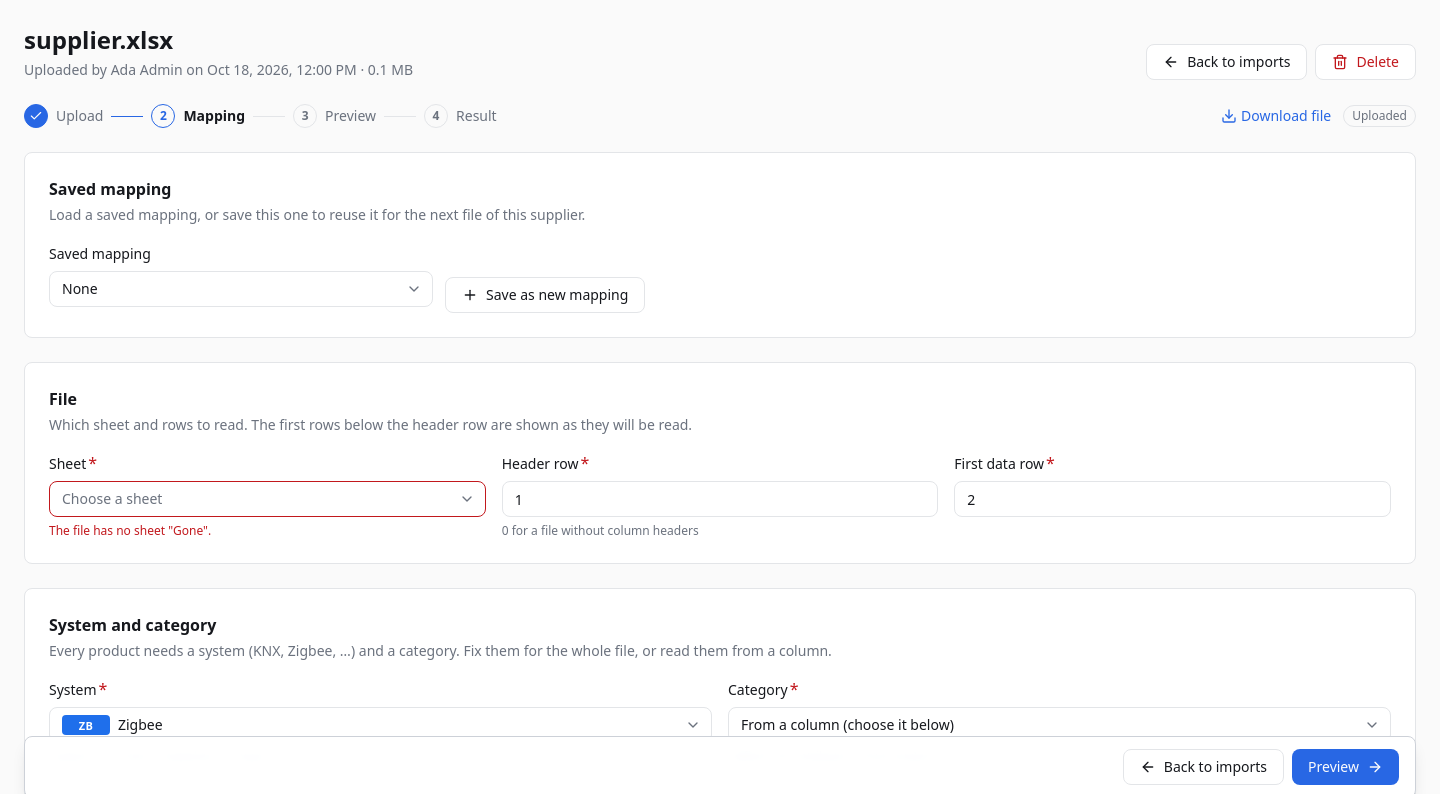
MappingStep: sheets › shows a sheet the file lacks at the sheet and places the mapping on the sheet chosen instead
Expected: the text "The file has no sheet \"Gone\"." is shown, [49,522,211,539]
Click the dropdown labelled "sheet".
click(112, 498)  # box [49,481,486,517]
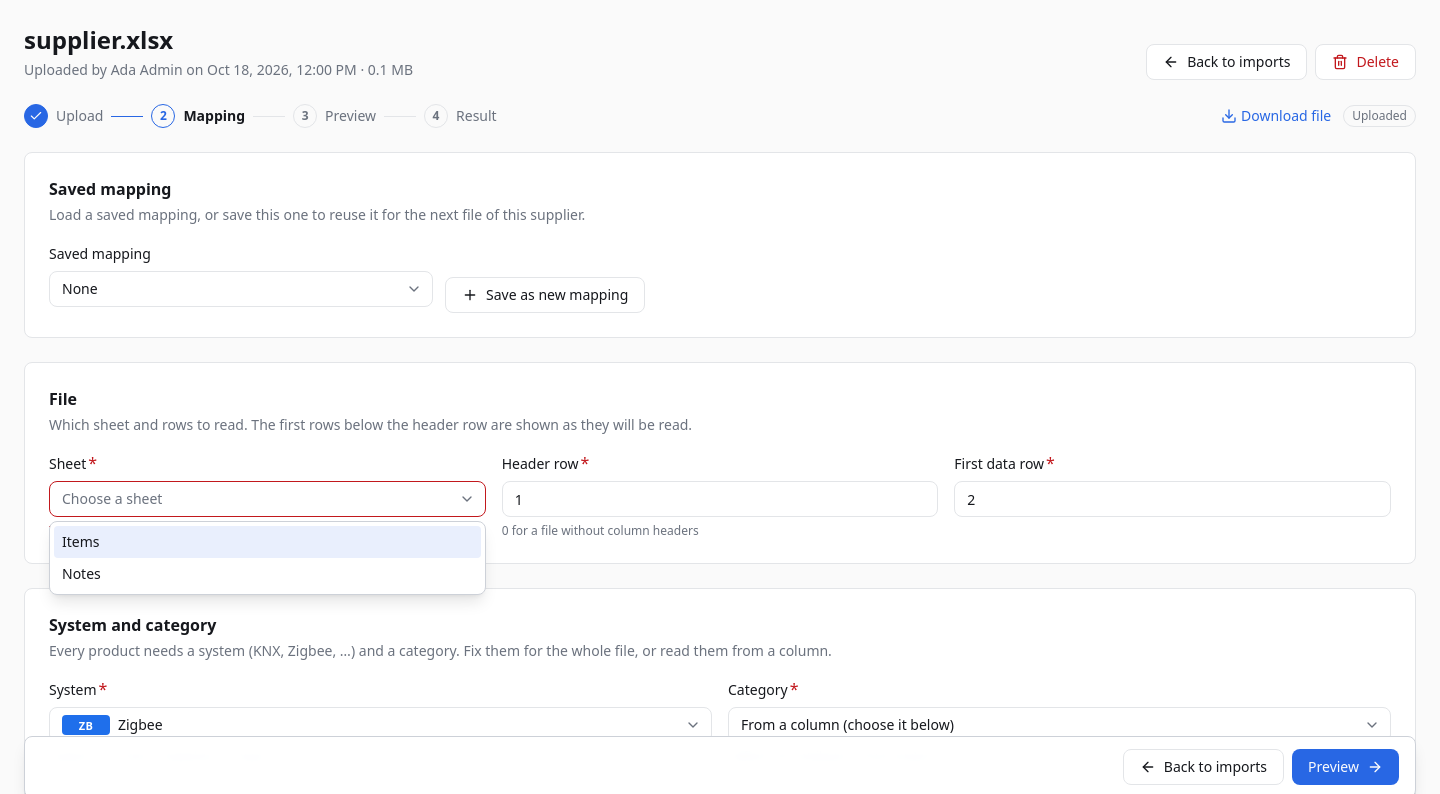
Click the option "Notes".
click(81, 574)  # box [62,564,101,583]
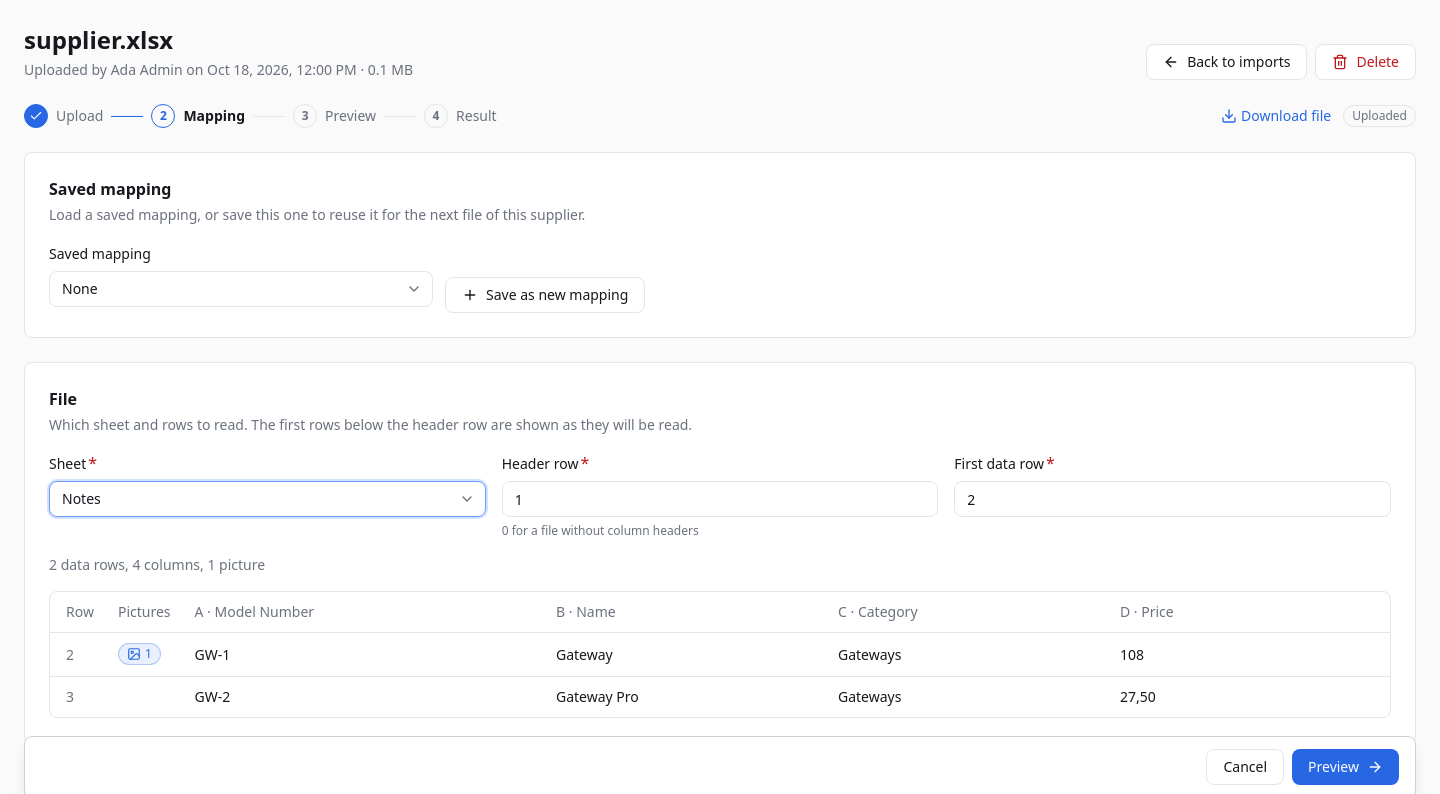
Expected: the text "Notes" is shown, [62,489,101,509]
